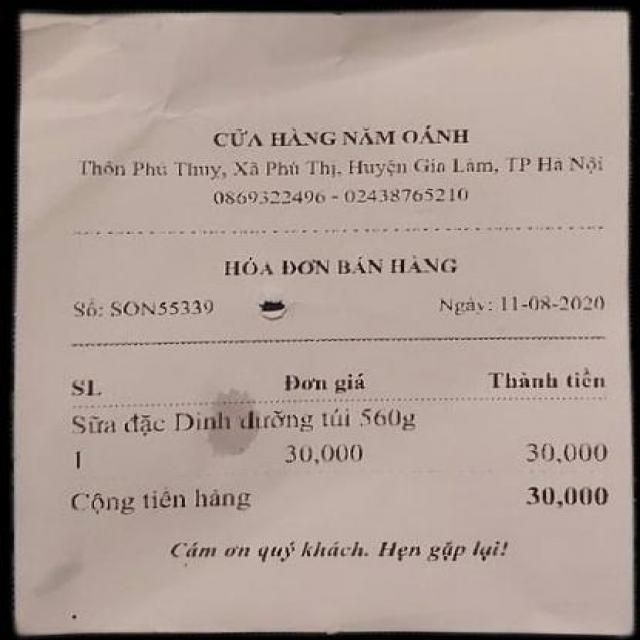Date: (497, 280, 615, 321)
Store_Name: (182, 113, 475, 154)
amount_number: (502, 479, 626, 514)
label_total: (67, 481, 256, 521)
